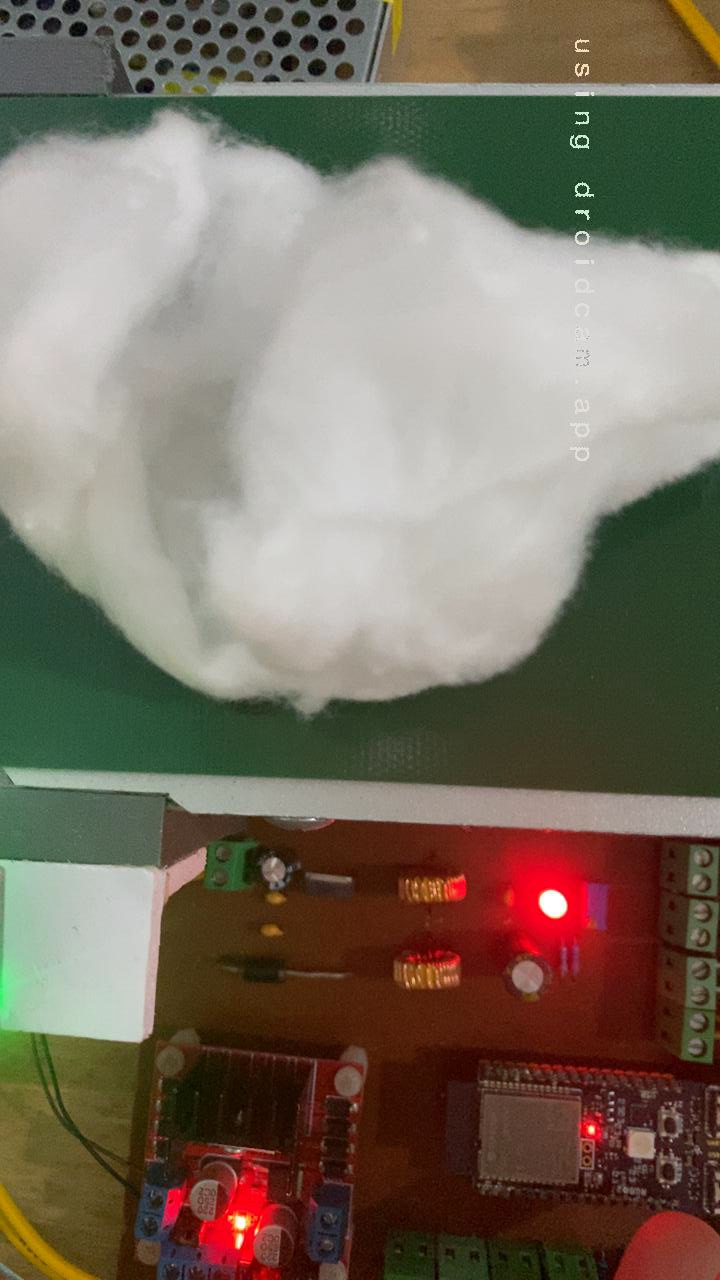cotton: (0, 100, 720, 722)
